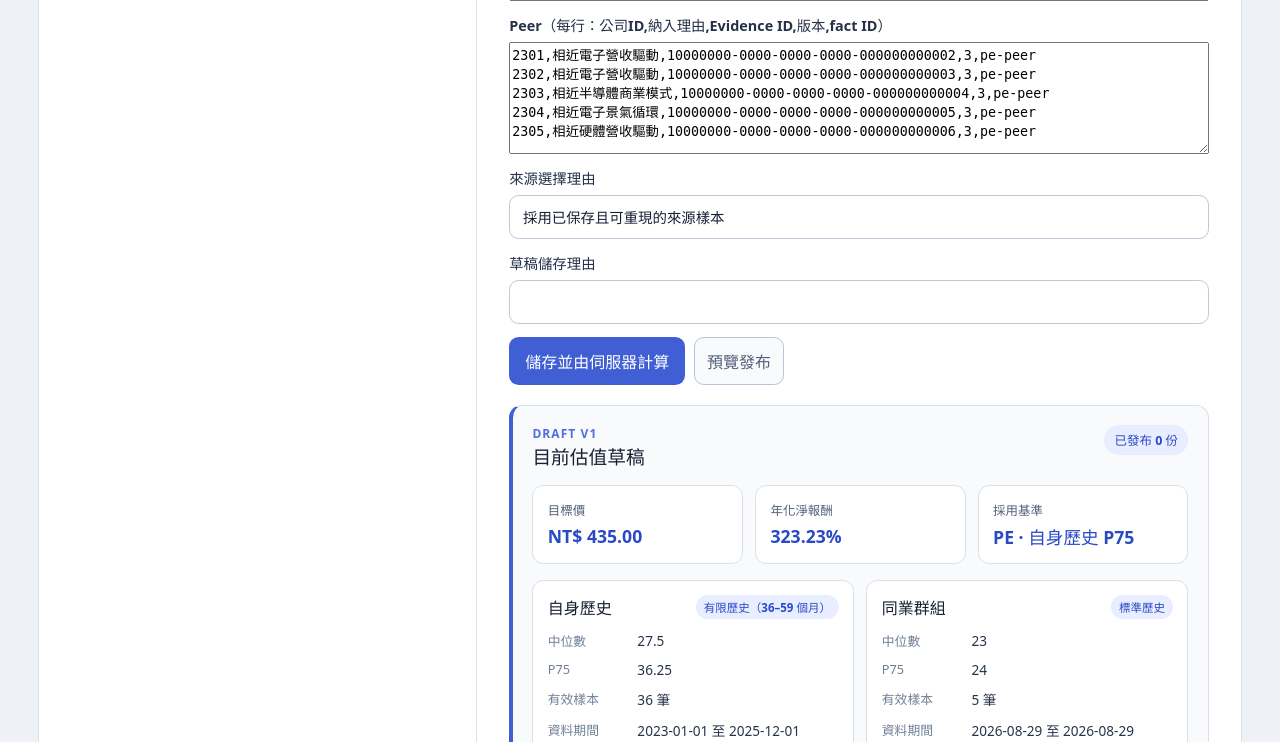
Test: ThesisRoutes › closes a stale publication dialog and asks for a fresh preview
(page scrolled)
Click the button "預覽發布".
click(739, 361)  # box left=694, top=337, right=784, bottom=385
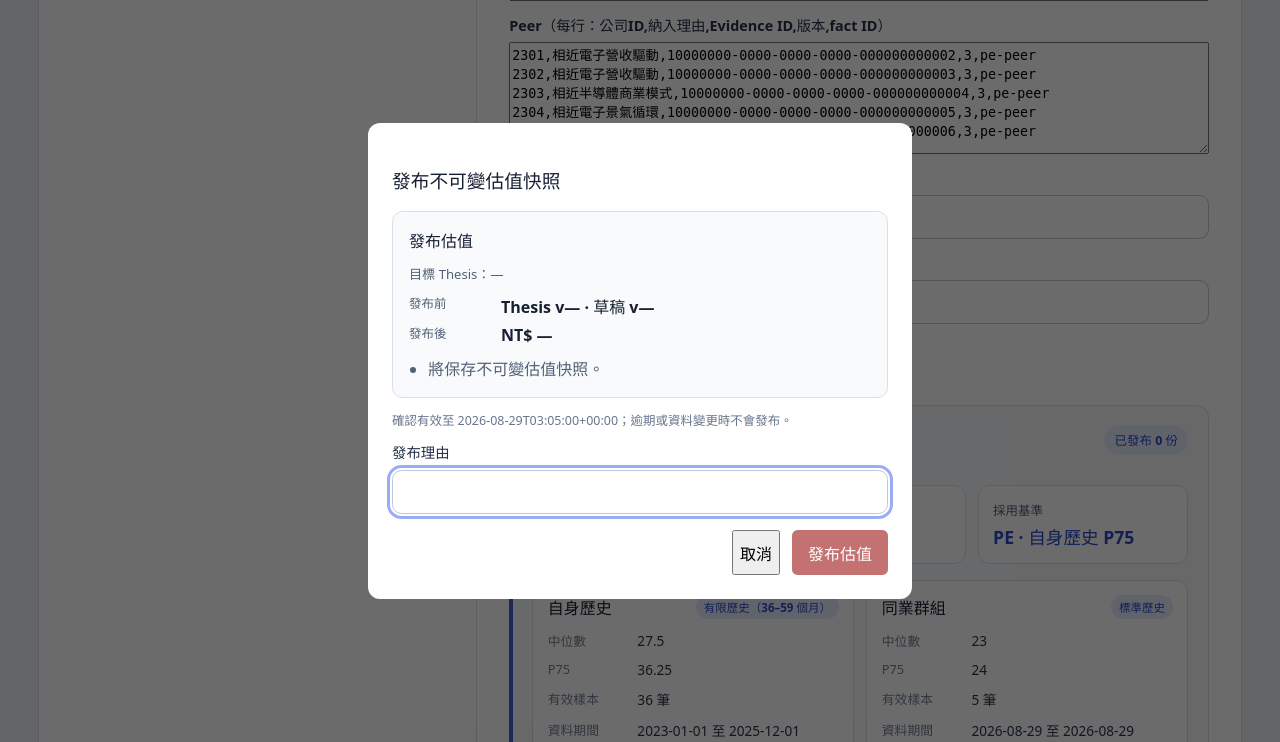
Type "確認發布" into the field labelled "發布理由".
click(640, 492); type("確認發布")  # box left=392, top=470, right=888, bottom=514
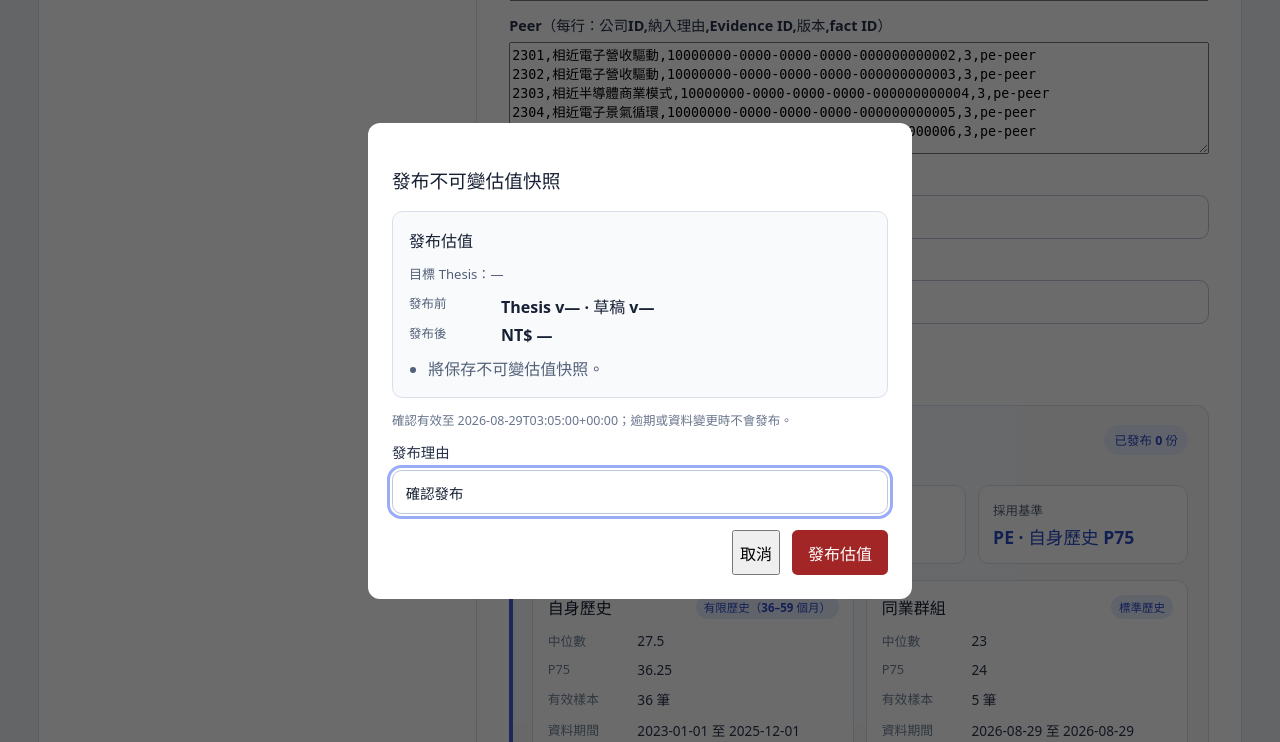
Click the button "發布估值".
click(840, 553)  # box left=792, top=530, right=888, bottom=575
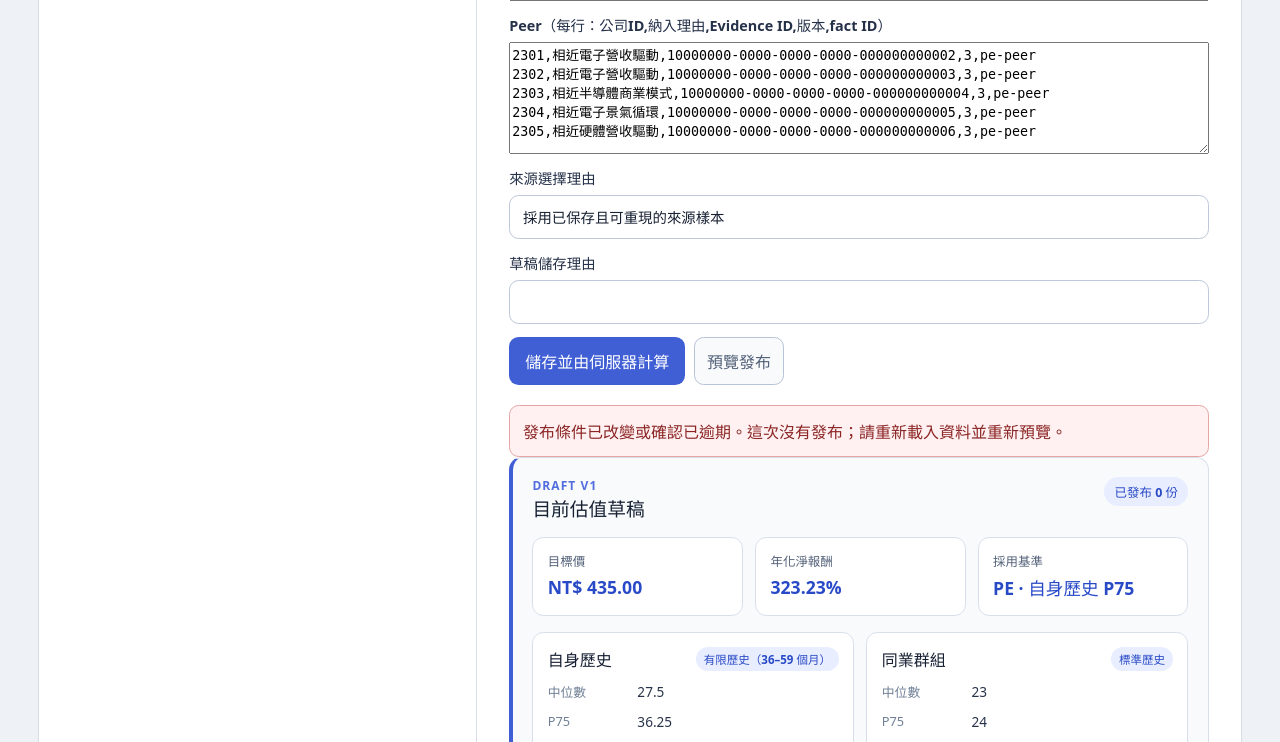
Now the heading "發布不可變估值快照" is gone
Now the message shows "發布條件已改變或確認已逾期", box left=523, top=421, right=1067, bottom=443
Now the message shows "重新預覽", box left=523, top=421, right=1067, bottom=443
